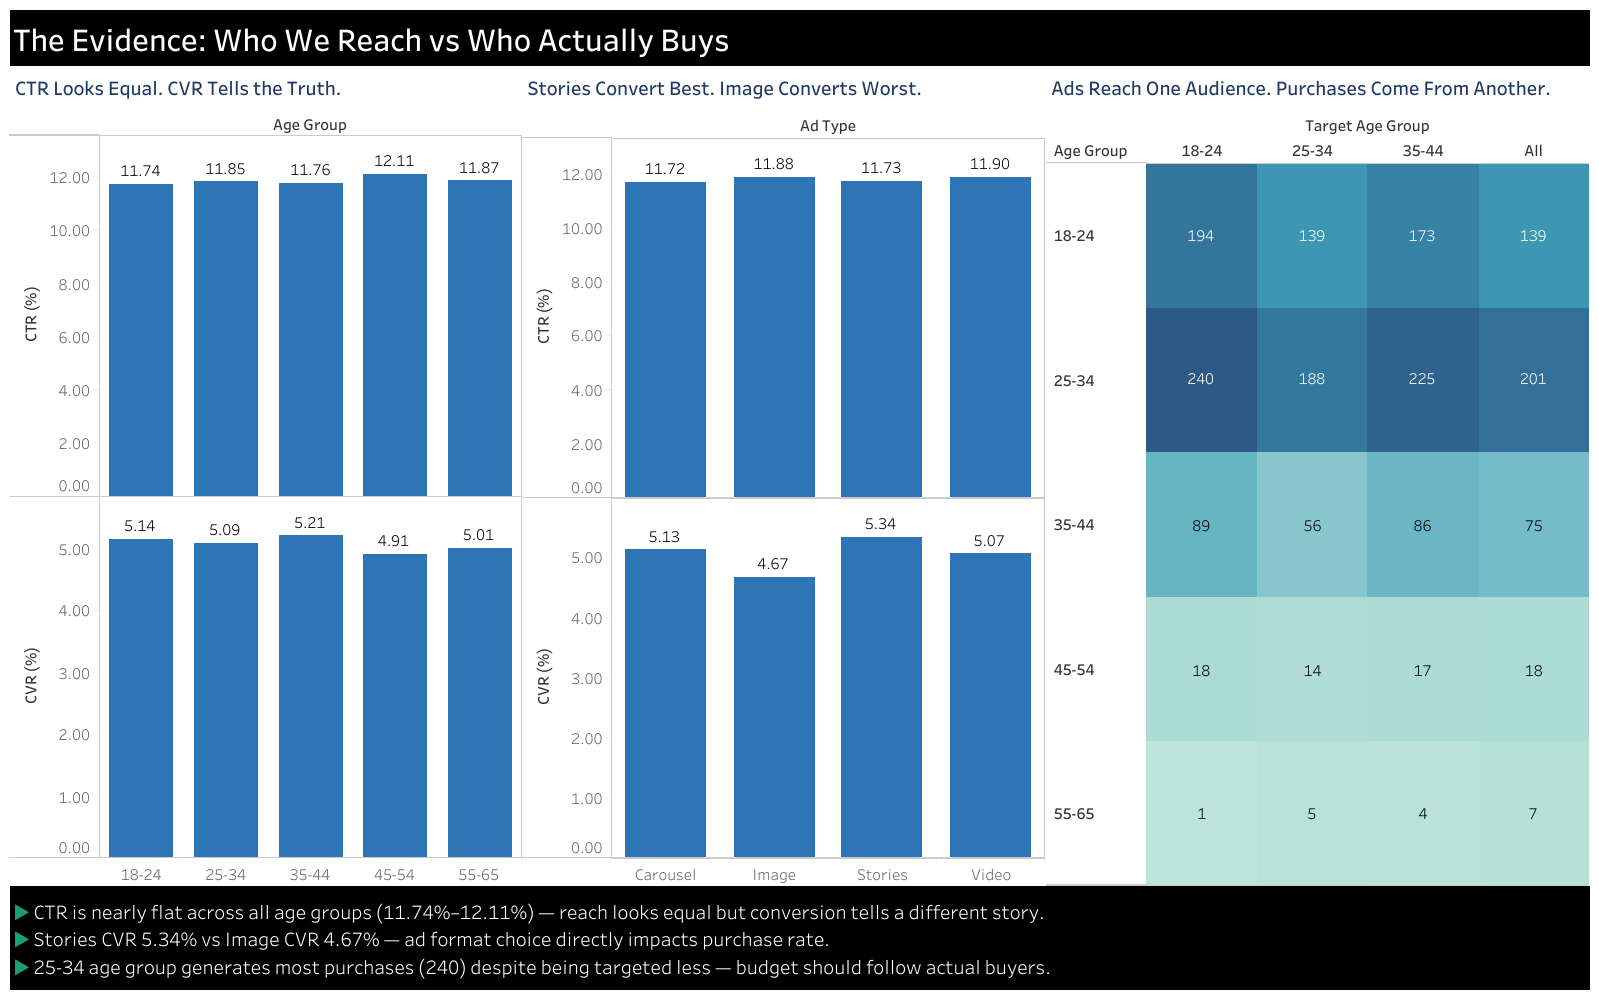

This screenshot's page, from the dashboard's own definition file:
{"tool":"tableau","page":{"name":"Audience & Targeting","canvas":[1280,800],"ordinal":0},"visuals":[{"type":"text","box":[8,8,1264,45]},{"type":"worksheet","title":"Audience - Age Group","mark":"Bar","rows":["Calculation_1353894651411730439","Calculation_1353894651412062216"],"cols":["age_group"],"box":[8,53,410,656]},{"type":"worksheet","title":"Audience - Ad Type","mark":"Bar","rows":["Calculation_1353894651411730439","Calculation_1353894651412062216"],"cols":["ad_type"],"box":[418,53,419,656]},{"type":"worksheet","title":"Audience Mismatch","mark":"Square","rows":["age_group"],"cols":["target_age_group"],"box":[837,53,435,656]},{"type":"text","box":[8,709,1264,83]}]}

Visuals, with their boxes in screenshot pixels (x1, y1, x2, y2), scaled from the page's 1280x800 canvas onto the 1599x999 screenshot:
text: 10 10 1589 66
"Audience - Age Group" worksheet (Bar marks): 10 66 522 885
"Audience - Ad Type" worksheet (Bar marks): 522 66 1046 885
"Audience Mismatch" worksheet (Square marks): 1046 66 1589 885
text: 10 885 1589 989
